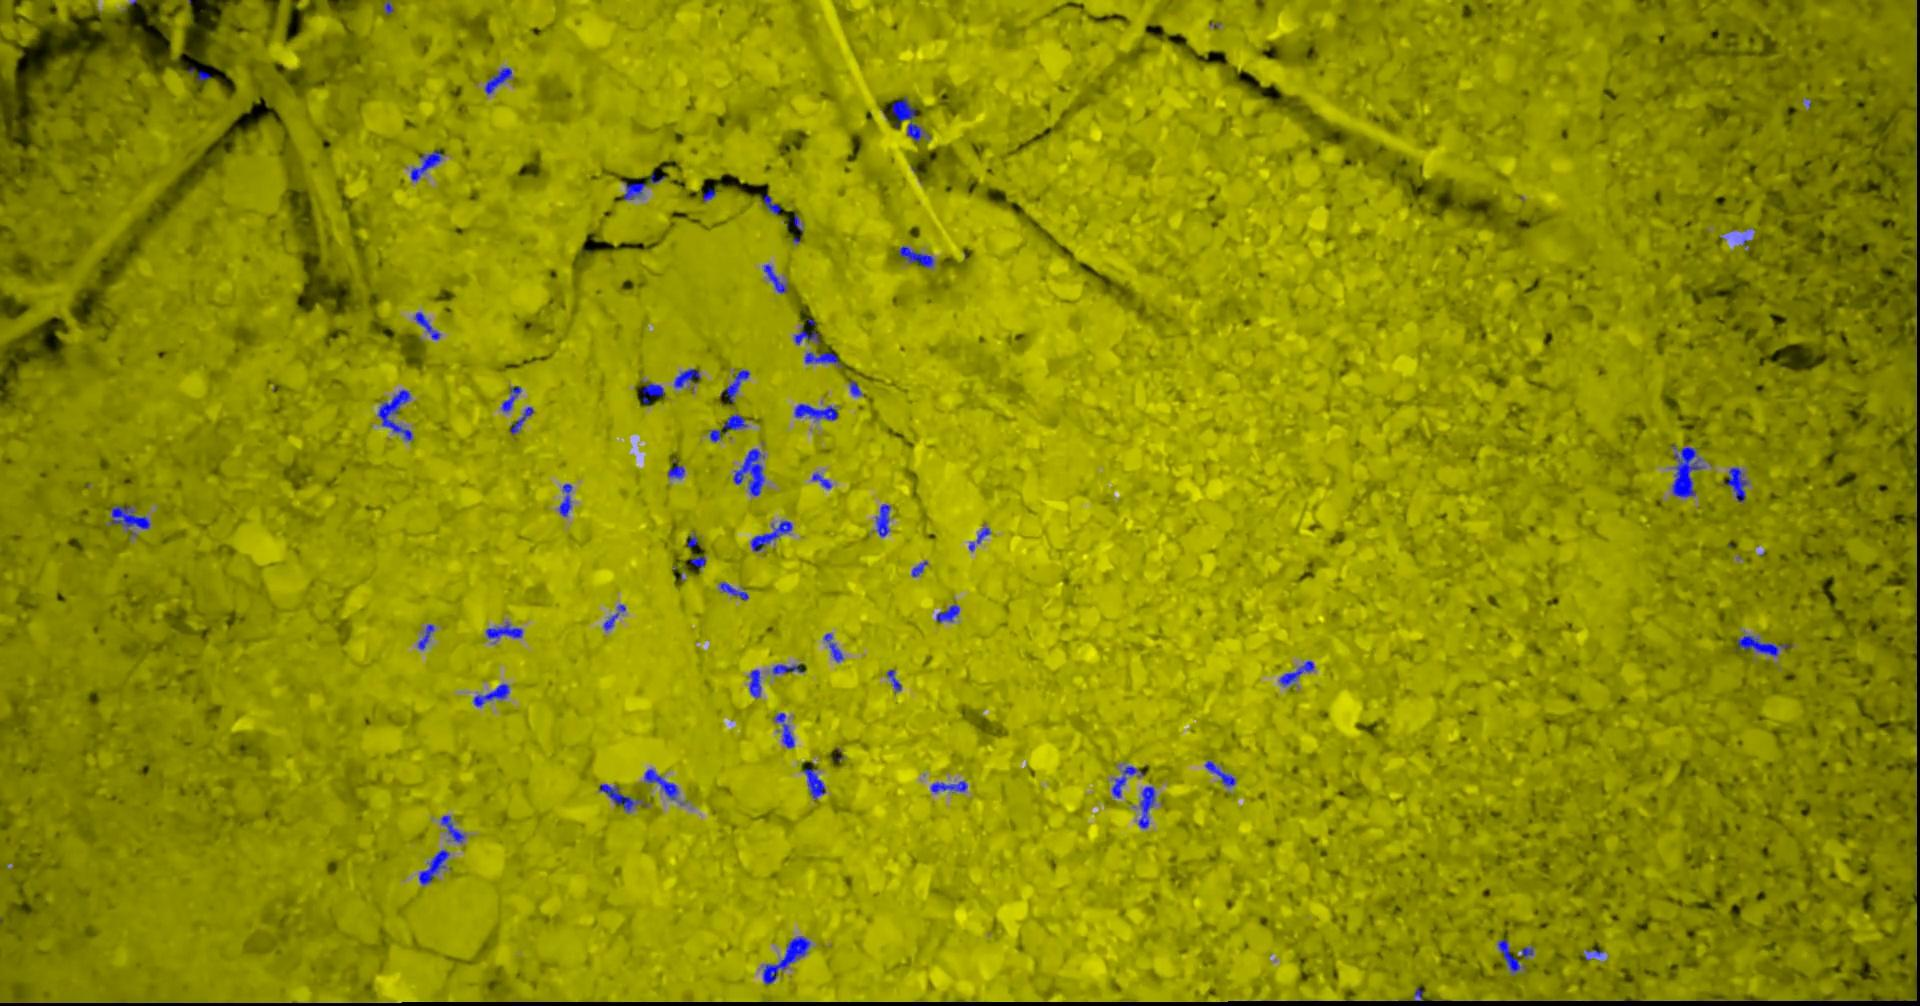ant: (762, 936, 810, 983), (377, 389, 411, 439), (1671, 447, 1702, 497), (733, 448, 764, 495), (891, 97, 922, 141), (750, 520, 792, 551), (598, 782, 639, 812), (418, 848, 450, 884), (1736, 635, 1790, 655), (644, 768, 678, 799), (709, 414, 747, 441), (1111, 765, 1143, 796), (110, 506, 150, 530), (410, 150, 441, 180), (721, 370, 749, 401), (1279, 661, 1314, 685), (1204, 760, 1236, 786), (472, 683, 509, 706), (1722, 467, 1747, 500), (1137, 786, 1156, 828), (898, 245, 935, 267), (792, 403, 837, 419), (1497, 939, 1519, 972), (484, 67, 510, 94), (414, 311, 439, 339), (803, 767, 825, 798), (763, 263, 786, 292), (775, 713, 794, 747), (509, 406, 533, 433), (439, 815, 463, 842), (792, 323, 819, 344), (823, 633, 843, 661), (485, 622, 522, 638), (968, 527, 990, 551), (603, 605, 625, 630), (719, 582, 748, 600), (673, 368, 700, 387), (875, 503, 890, 536), (641, 381, 664, 403), (502, 386, 521, 412), (930, 780, 968, 793), (417, 622, 434, 649), (557, 483, 571, 514), (623, 180, 645, 199), (936, 605, 959, 622), (759, 194, 780, 213), (804, 352, 837, 363), (772, 663, 804, 674), (667, 459, 684, 478), (188, 66, 210, 81), (886, 669, 902, 690), (811, 473, 830, 488), (749, 669, 759, 697), (910, 560, 927, 575), (850, 380, 861, 396), (702, 187, 715, 201), (690, 555, 705, 567)
